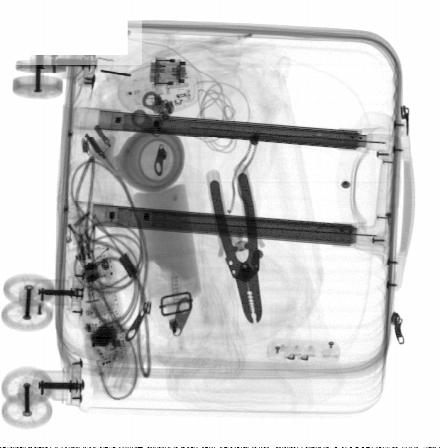Pliers: (210, 171, 263, 325)
